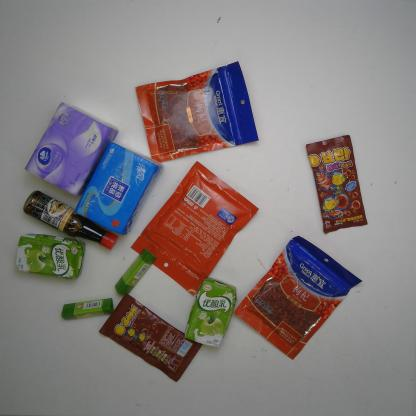Candy: (98, 293, 204, 383), (304, 134, 370, 235)
Dried Fruit: (129, 160, 260, 297), (233, 234, 363, 361), (134, 60, 260, 164)
Milk: (184, 276, 238, 349), (14, 232, 86, 280)
Seasoner: (22, 189, 119, 251)
Stationery: (114, 248, 157, 297), (61, 298, 115, 321)
Tissue: (24, 102, 119, 197), (72, 140, 164, 236)
